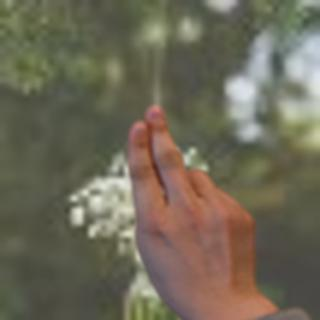DHAVE: (114, 99, 262, 314)
